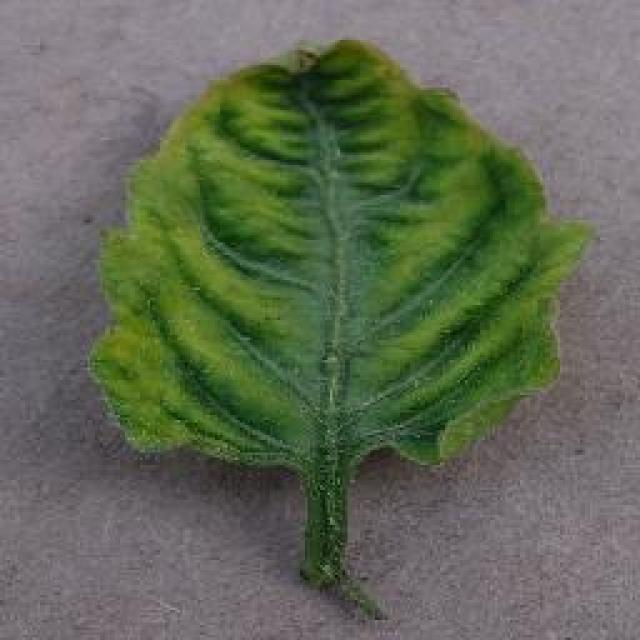Tom_Yellow_Leaf_Curl_Virus: (141, 54, 529, 424)
